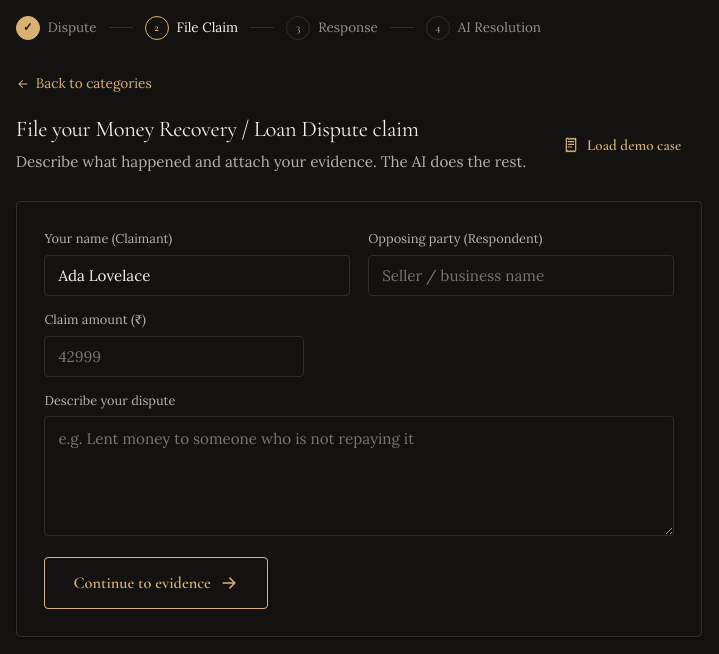
it: NewCase › creates a draft case with a parsed numeric amount and advances to the evidence step
In the field labelled "Opposing party (Respondent)": (521, 276) [368, 255, 674, 296], type "Acme Corp"
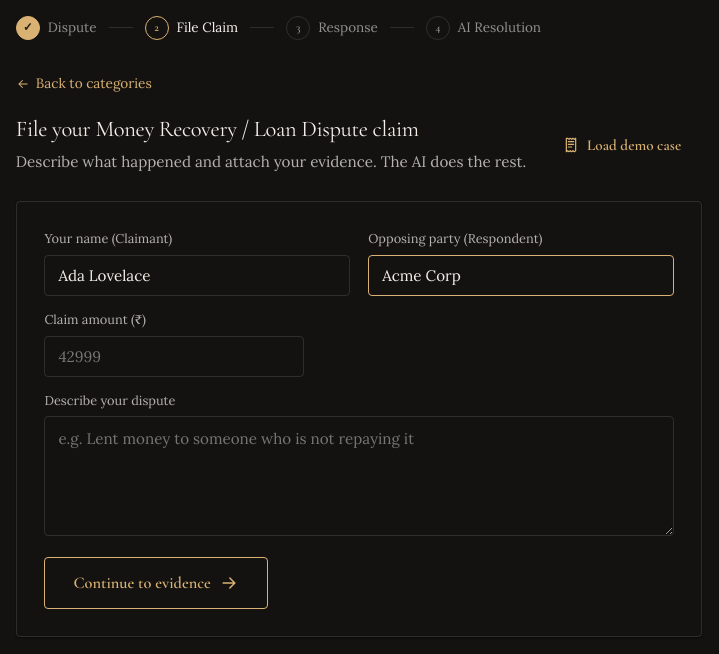
In the number field labelled "Claim amount (₹)": (174, 356) [44, 336, 304, 377], type "15000"
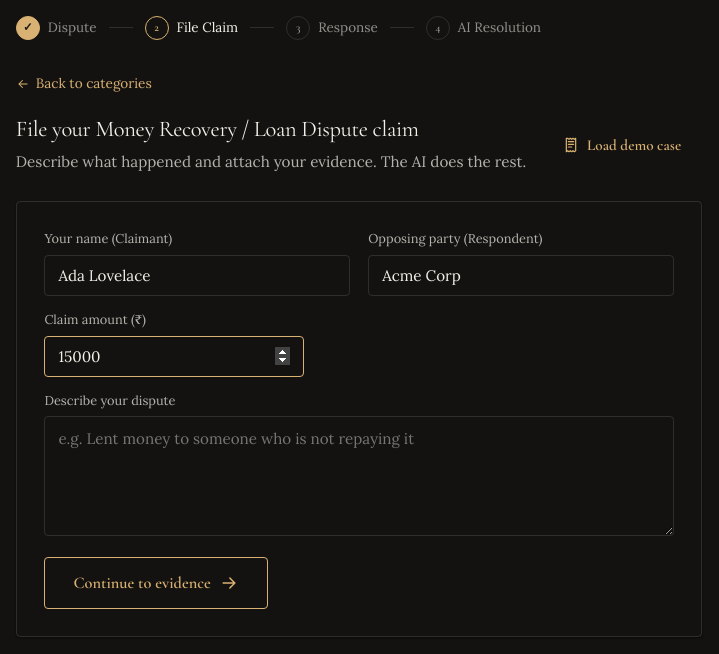
In the text box labelled "Describe your dispute": (359, 476) [44, 416, 674, 536], type "They never delivered the goods."
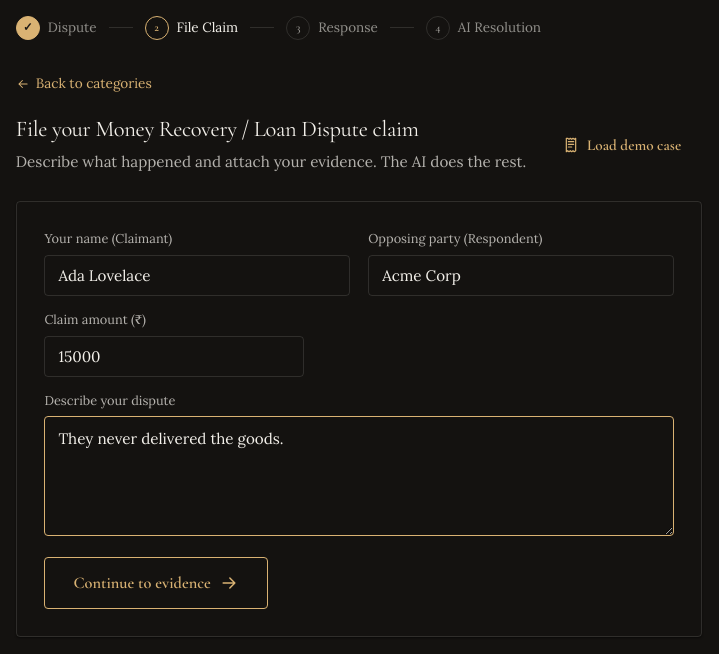
Click the button "Continue to evidence": click(156, 582) [44, 556, 268, 608]
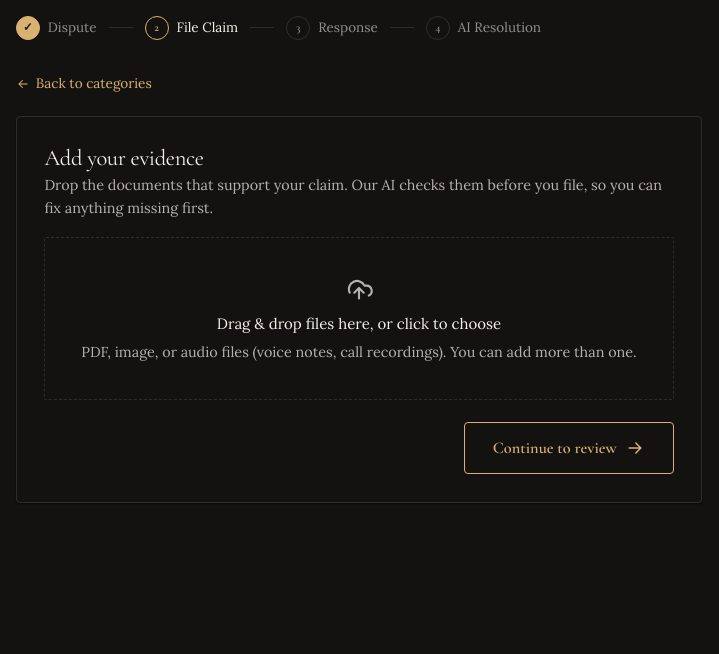
Check: the heading "Add your evidence" is shown, box [44, 144, 204, 171]
